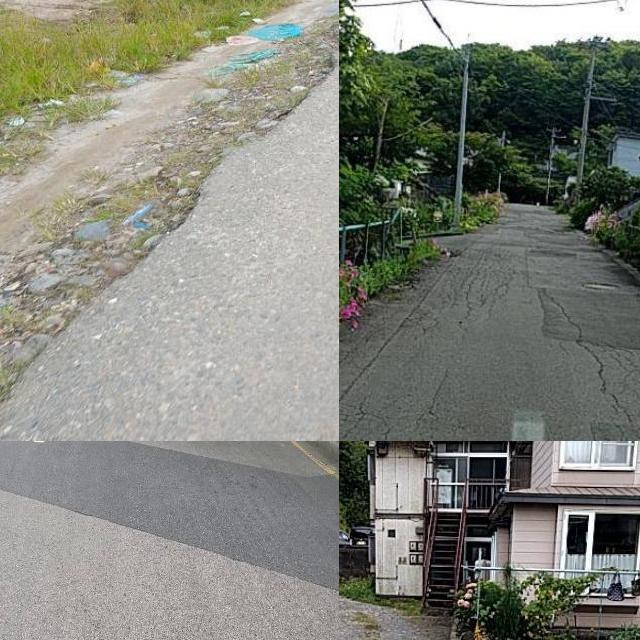Pinggir: (0, 0, 339, 441)
Sambungan: (0, 441, 339, 594), (536, 291, 640, 346)
